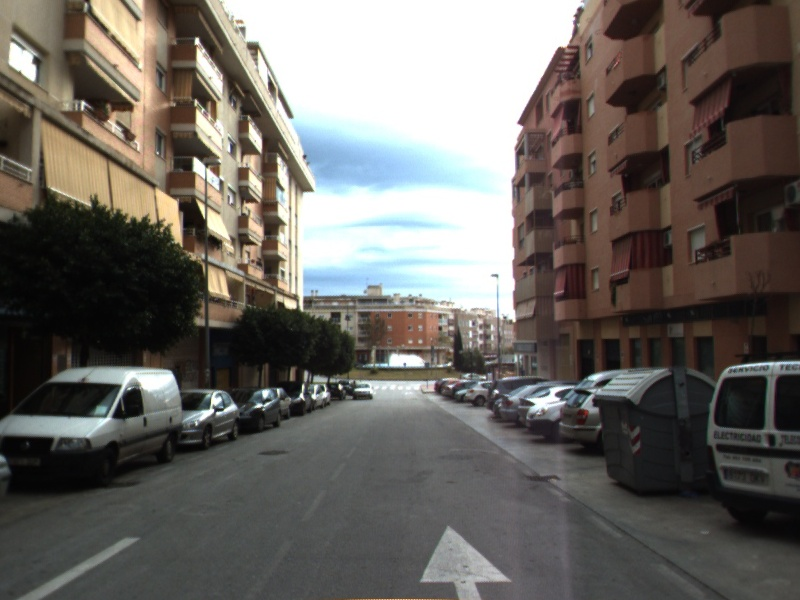STRAIGHT: (416, 520, 517, 600)
